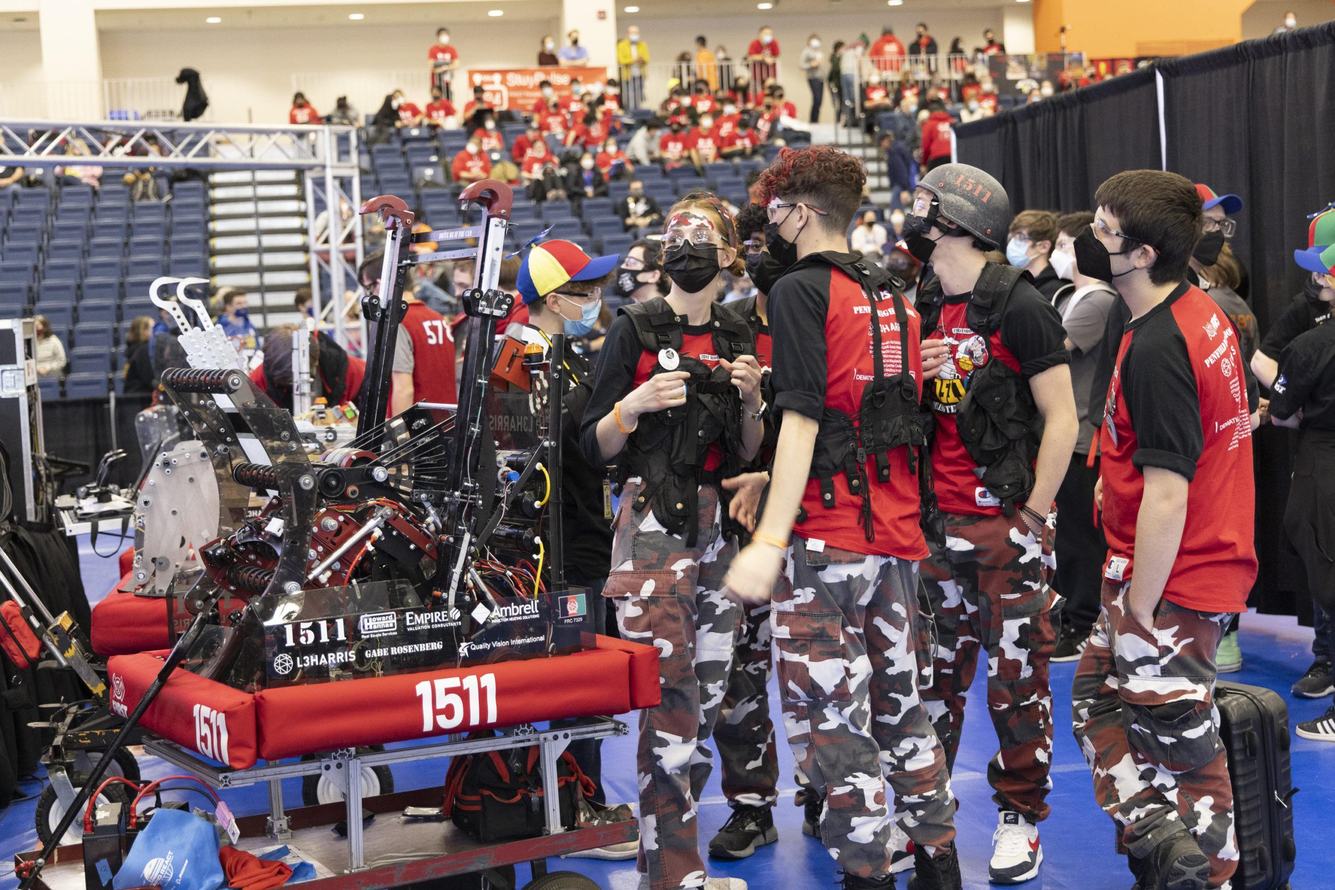robot: (104, 176, 673, 770), (87, 267, 426, 666)
